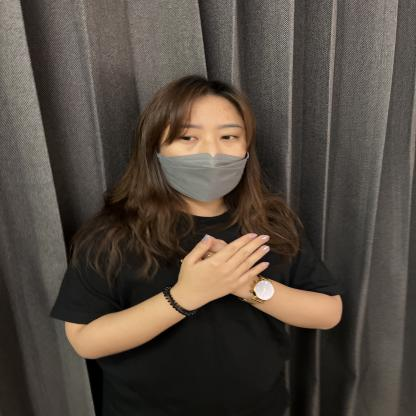Grieve: (116, 215, 360, 336)
